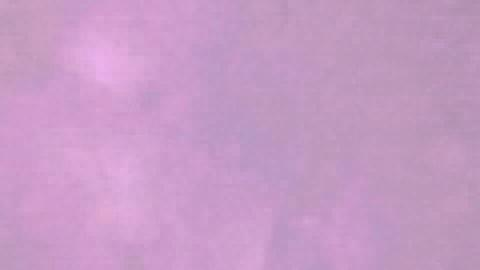tomato: (184, 129, 393, 268), (1, 136, 184, 268), (393, 125, 477, 268)
